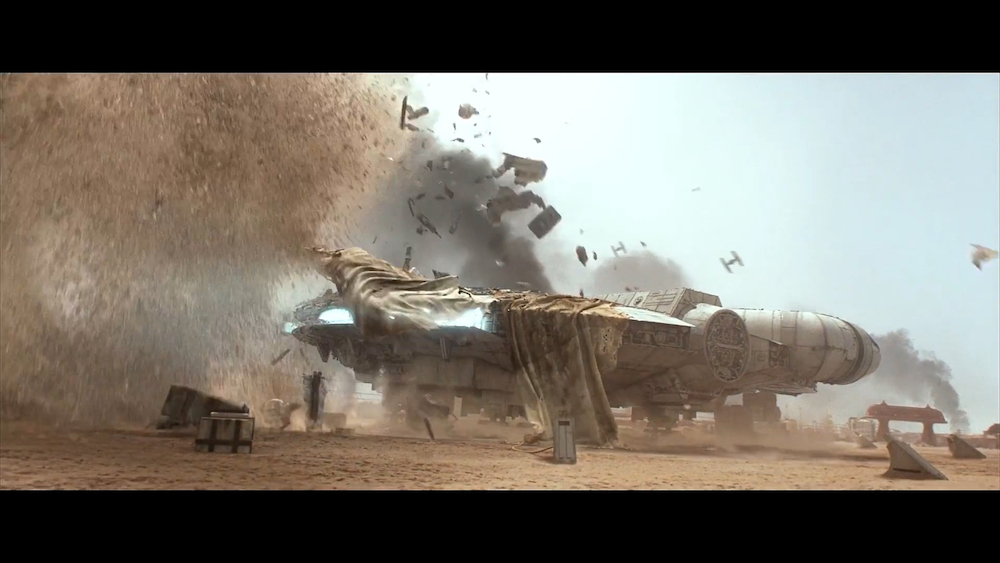Millennium Falcon: (291, 289, 882, 408)
Tie Fighter: (720, 251, 745, 274), (611, 242, 627, 259)
